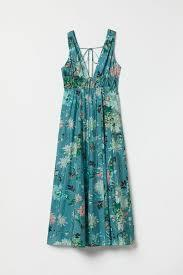dress: (46, 31, 137, 248)
